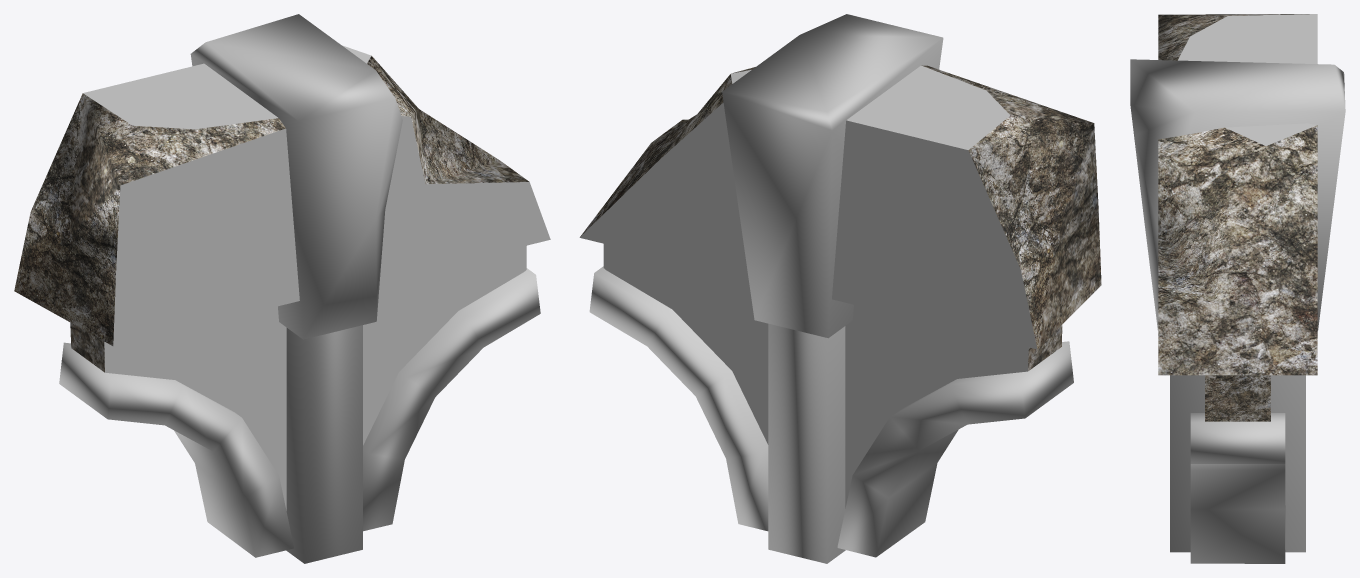
The model's file is Ruins_16_LOD1.fbx.
3 renders of one model, left to right at view 1: azimuth 30°, elevation 25°; view 2: azimuth 150°, elevation 25°; view 3: azimuth 270°, elevation 25°, orthographic. The views are drawn at different scales.
Parts seen in each view (by area): view 1: polySurface5349; view 2: polySurface5349; view 3: polySurface5349.
Boxes of the visible parts, <box> form: polySurface5349: <box>14,14,550,563</box>; polySurface5349: <box>579,14,1101,563</box>; polySurface5349: <box>1130,14,1345,563</box>.
Bounding box in the file's own units: 2.59 × 2.49 × 1.07.
